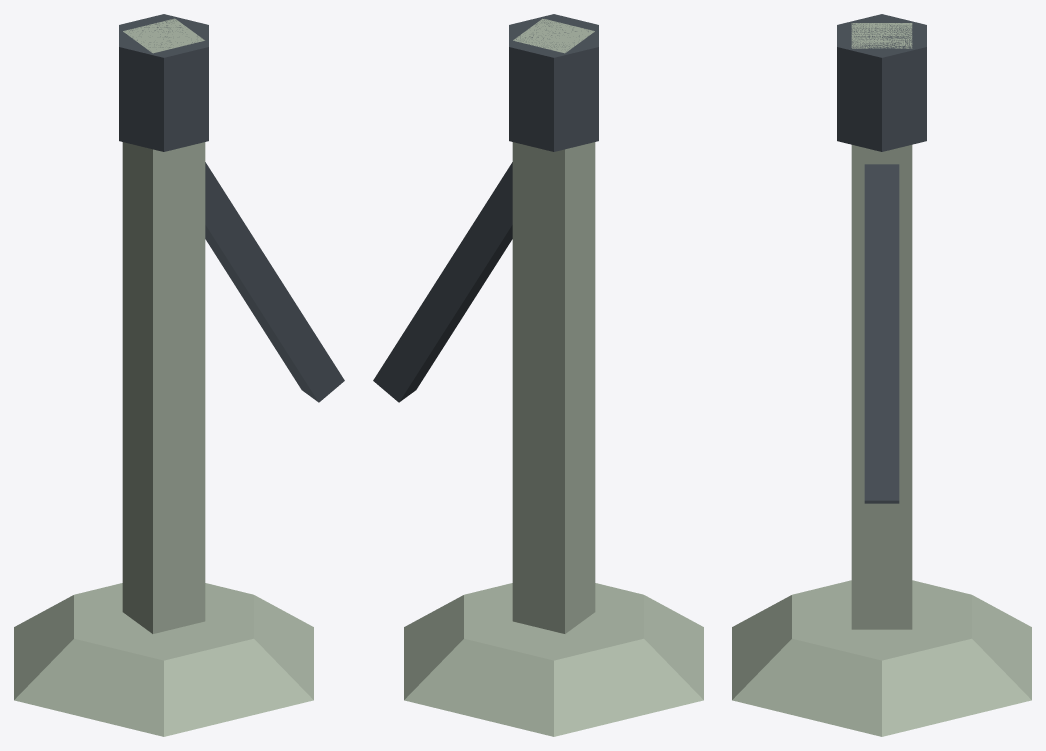
File: SH_LandingLeg_01.glb
3 views of the same model, side by side, from view 1: azimuth 30°, elevation 25°; view 2: azimuth 150°, elevation 25°; view 3: azimuth 270°, elevation 25° (orthographic).
Parts seen in each view (by area): view 1: SH_LandingLeg_01; view 2: SH_LandingLeg_01; view 3: SH_LandingLeg_01.
Part boxes in pixels (<box>): SH_LandingLeg_01: <box>14,14,344,736</box>; SH_LandingLeg_01: <box>373,14,703,736</box>; SH_LandingLeg_01: <box>732,14,1031,736</box>.
Size of the model in its own units: 0.4298 by 0.8 by 0.3464.
Materials: 1 (1 with a texture image).
